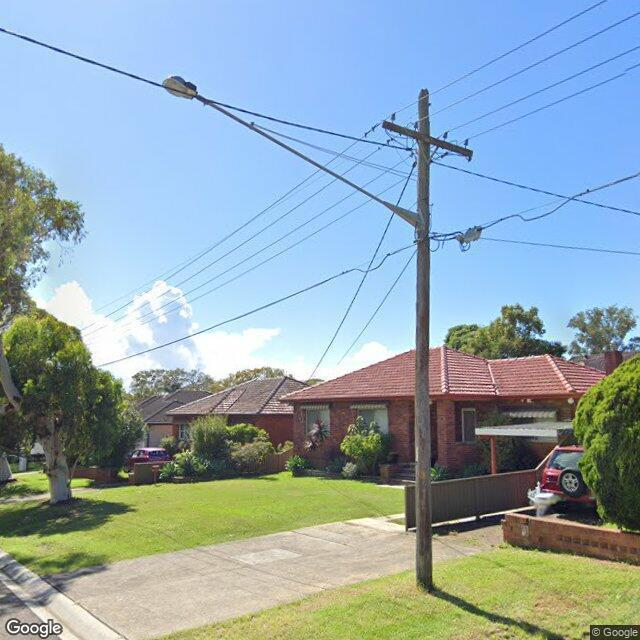crossarm: (381, 119, 473, 163)
streetlight: (161, 75, 421, 228)
timber-pole: (414, 87, 433, 589)
